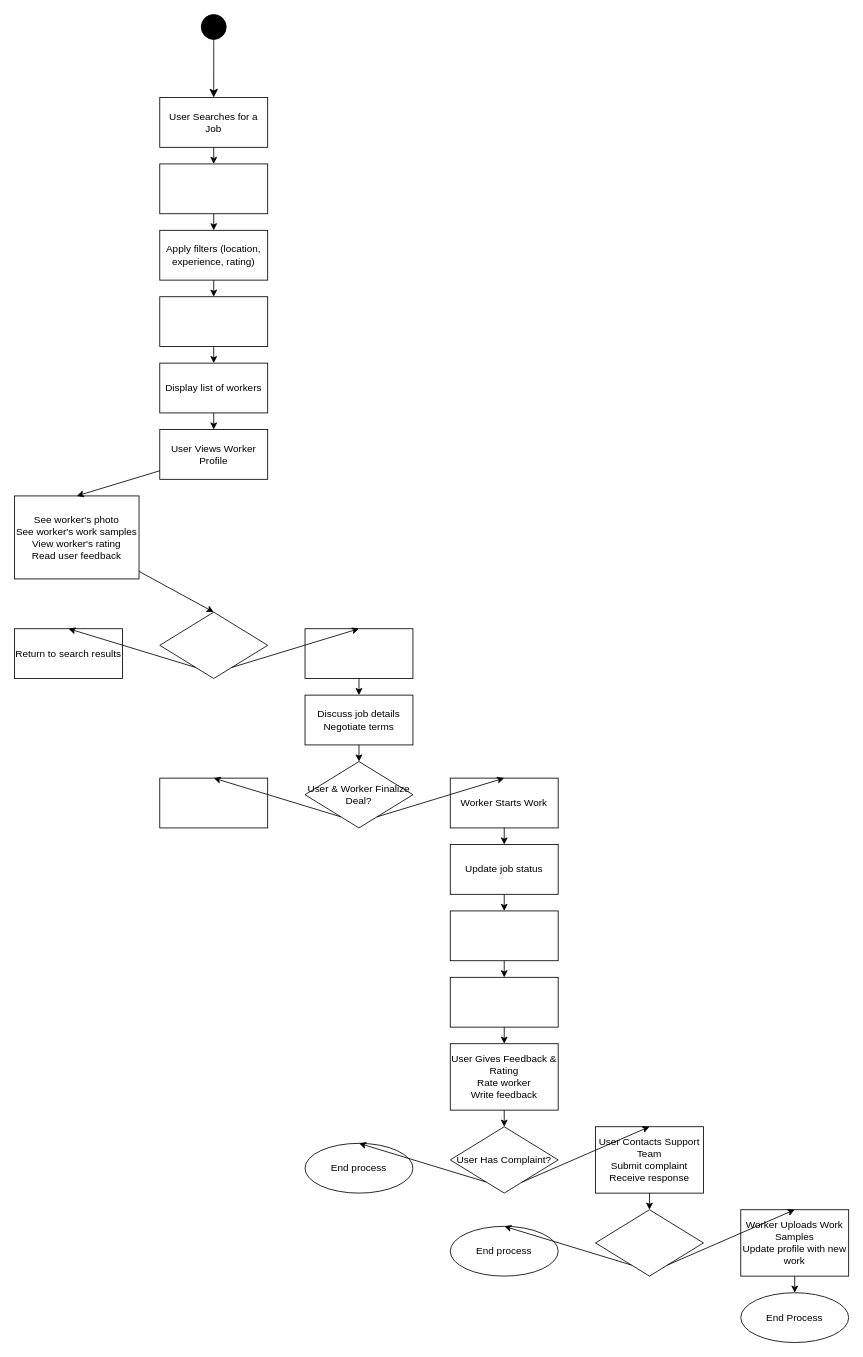
This 863x1357 diagram has some shape labels left out. Each missing label, with the centre of its shape:
"End chat, return to search results" belongs at point 213,802.
"Enter job title or keywords" belongs at point 213,188.
"Review completed work" belongs at point 503,1001.
"System Fetches Matching Workers" belongs at point 213,321.
"User Decides to Contact Worker?" belongs at point 213,645.
"User Initiates Chat with Worker" belongs at point 358,653.
"User Receives Work" belongs at point 503,935.
"Worker Wants to Share Work?" belongs at point 649,1242.
